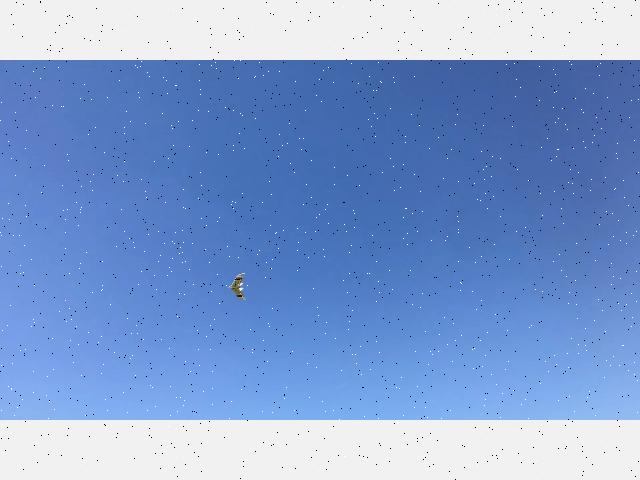Anti-Drone: (218, 267, 262, 305)
